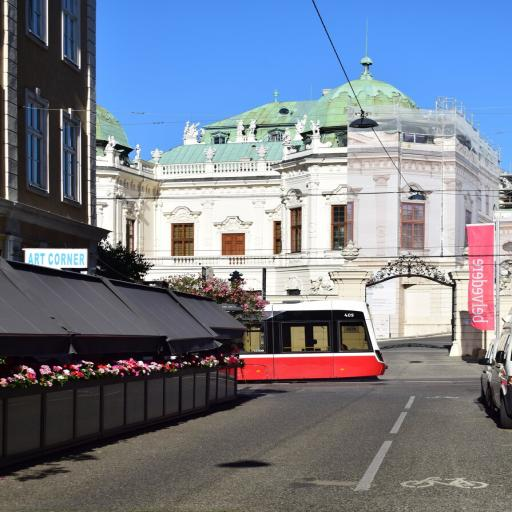Flexity: (228, 300, 392, 377)
